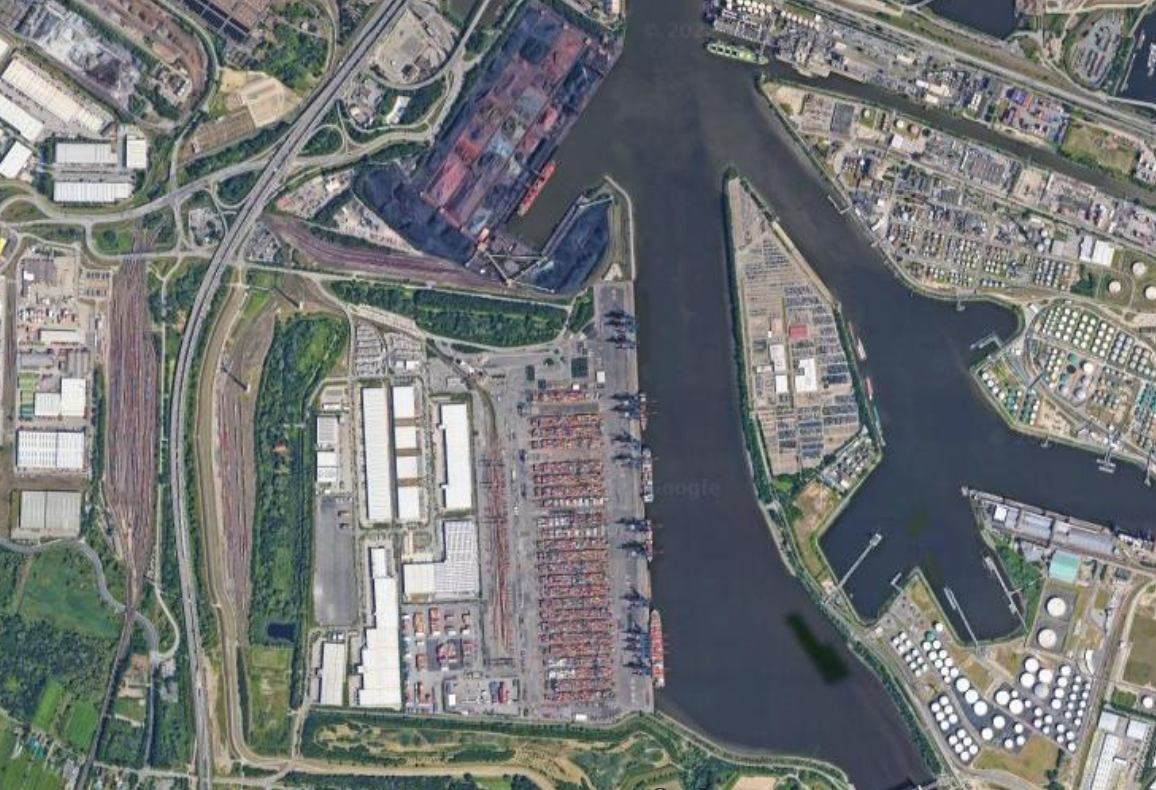ship: (516, 160, 556, 218), (705, 41, 770, 67), (648, 609, 668, 689), (641, 447, 654, 502), (645, 521, 654, 563), (639, 394, 649, 430)
